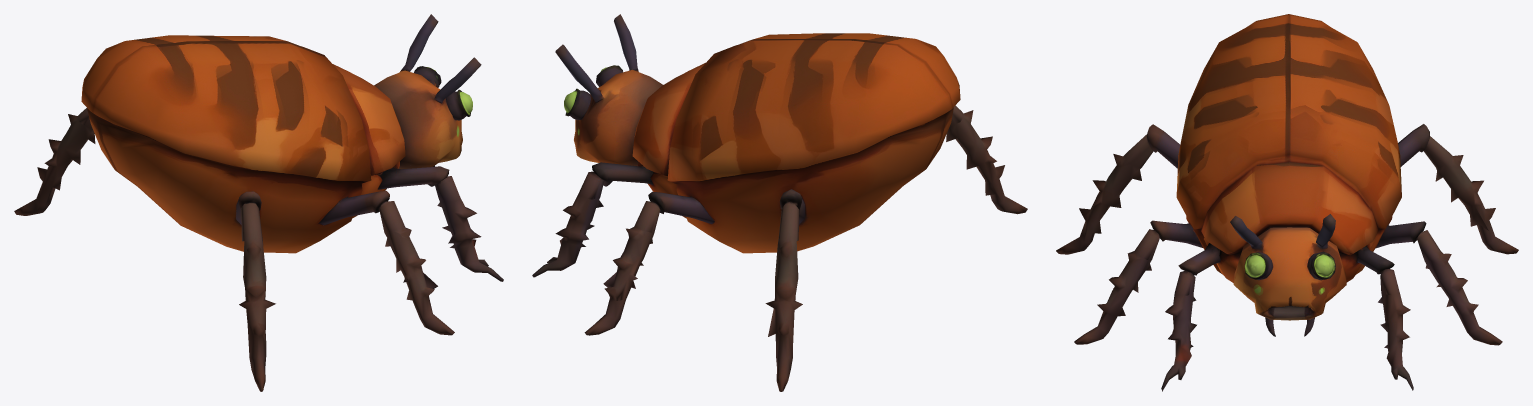
Rendered from swarmer_v1.glb.
The picture shows the model from 3 angles, left to right: view 1: azimuth 30°, elevation 25°; view 2: azimuth 150°, elevation 25°; view 3: azimuth 270°, elevation 25°; orthographic projection. The views are drawn at different scales.
Parts seen in each view (by area): view 1: tripo_node_462469d6-2285-4be6-a09c-c3c575352757; view 2: tripo_node_462469d6-2285-4be6-a09c-c3c575352757; view 3: tripo_node_462469d6-2285-4be6-a09c-c3c575352757.
Boxes of the visible parts, box(x1,y1,x2,y2) form: tripo_node_462469d6-2285-4be6-a09c-c3c575352757: box(14, 14, 503, 391); tripo_node_462469d6-2285-4be6-a09c-c3c575352757: box(532, 14, 1027, 391); tripo_node_462469d6-2285-4be6-a09c-c3c575352757: box(1056, 14, 1518, 391).
Size of the model in its own units: 0.8691 by 0.5762 by 0.998.
1 material, 1 textured.
